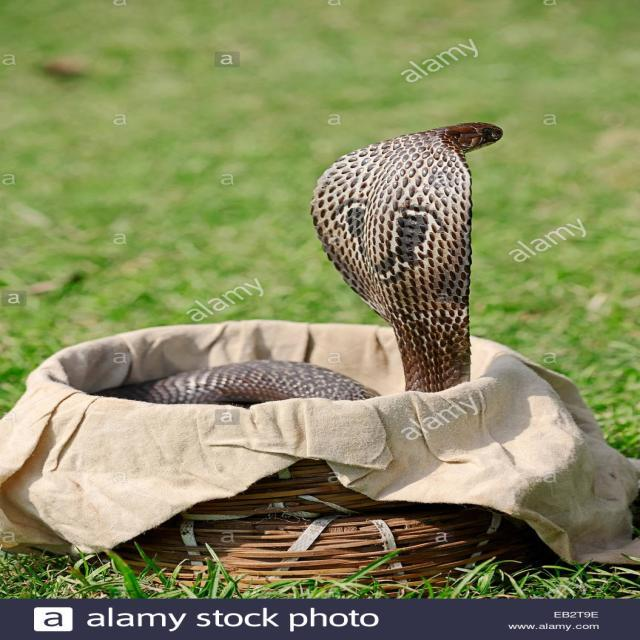Snake: (70, 112, 510, 414)
